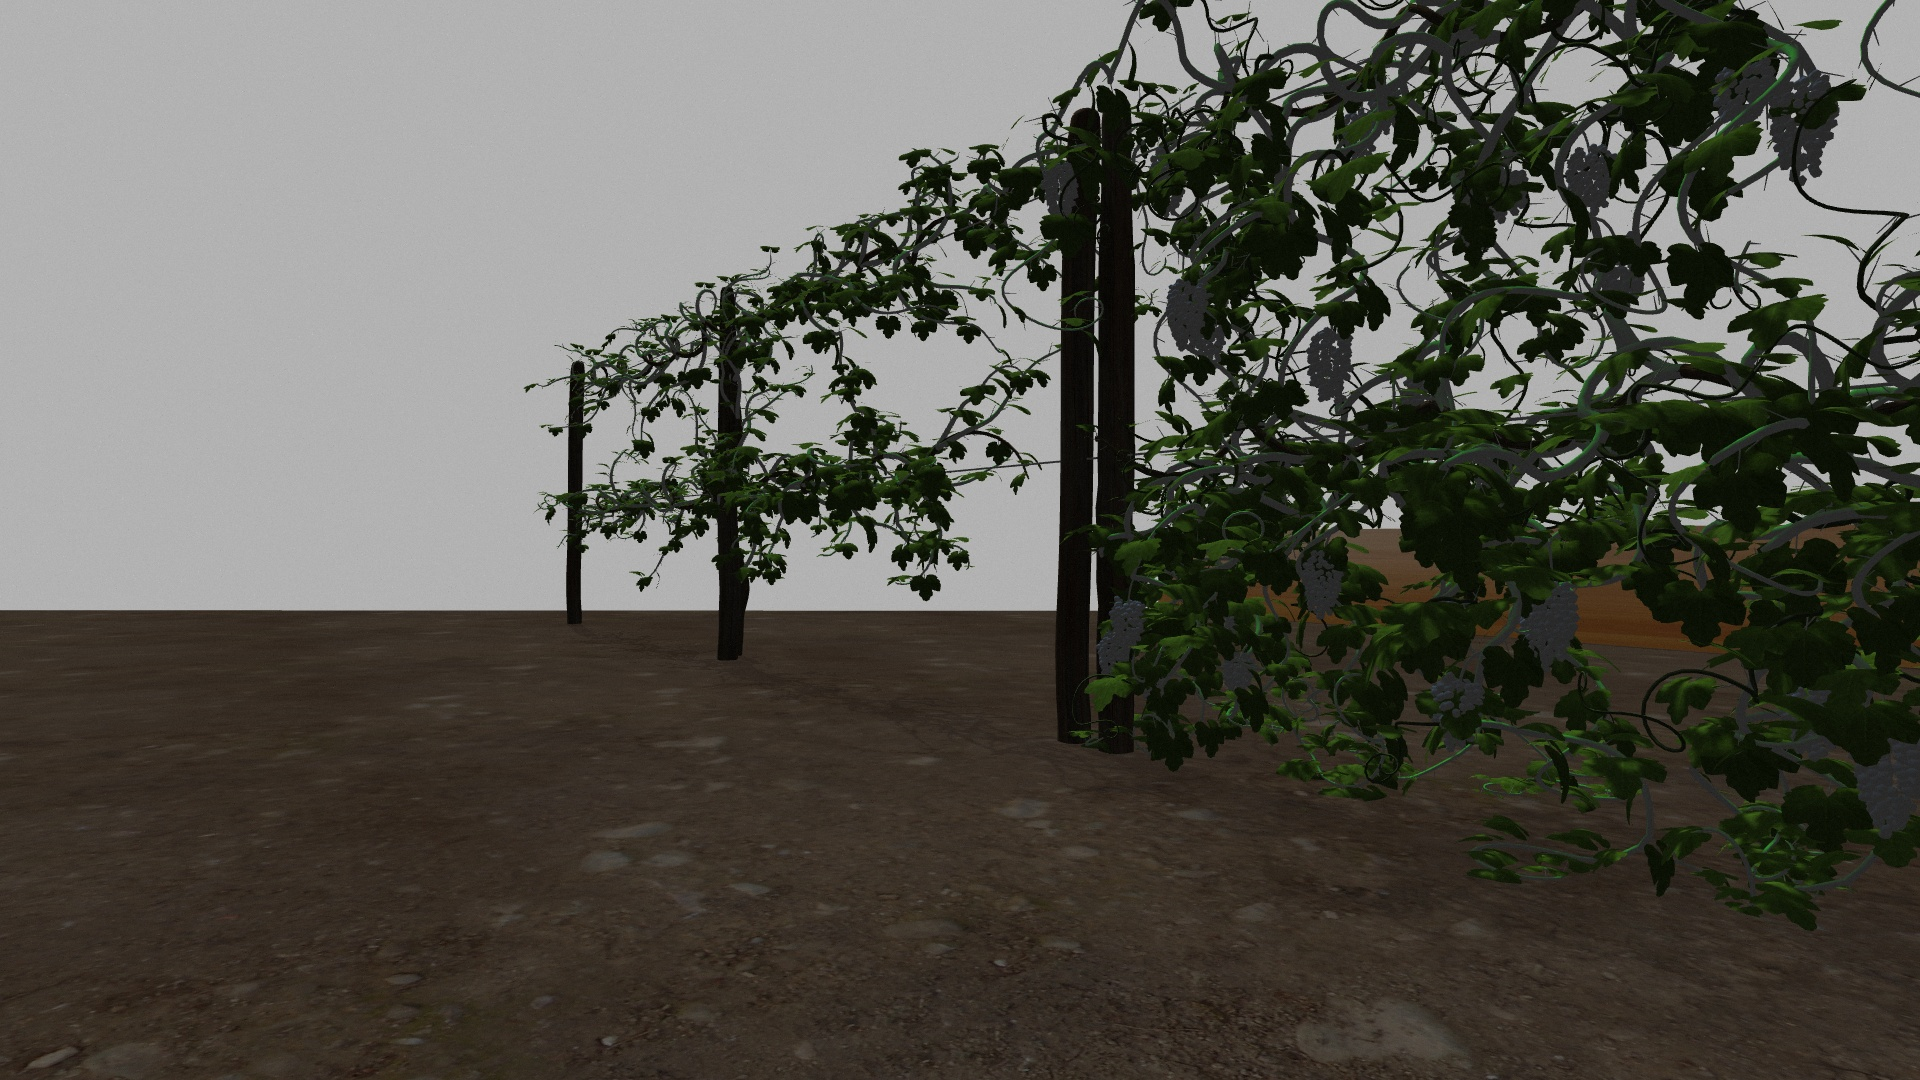grape: (1768, 76, 1840, 179), (1520, 582, 1582, 669), (1857, 745, 1913, 839), (1712, 59, 1772, 125), (1565, 144, 1615, 216), (1307, 328, 1354, 401), (1164, 280, 1211, 351), (1300, 551, 1344, 621), (1431, 670, 1486, 717), (1040, 162, 1079, 219), (1218, 638, 1257, 688), (1096, 636, 1134, 680), (1110, 596, 1143, 647)
